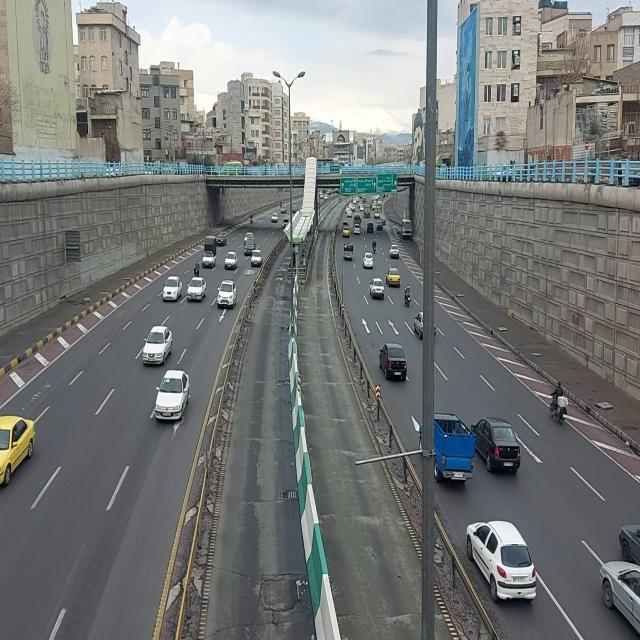Car: (463, 516, 539, 607), (597, 554, 640, 637), (475, 413, 525, 480), (0, 409, 38, 494), (155, 367, 193, 425), (378, 338, 409, 390), (140, 322, 174, 368), (217, 279, 237, 309), (162, 275, 182, 303), (187, 276, 207, 303), (370, 278, 385, 301), (386, 268, 402, 289), (414, 311, 423, 341), (225, 252, 239, 270), (251, 249, 263, 267), (244, 238, 256, 256), (362, 252, 374, 268), (216, 231, 228, 246), (390, 244, 400, 259), (271, 211, 279, 225), (343, 226, 351, 238), (367, 221, 375, 233), (353, 223, 361, 234), (376, 221, 384, 232), (280, 205, 286, 215), (292, 204, 298, 214), (347, 209, 353, 218)
Motorcycle: (548, 373, 570, 433), (404, 284, 412, 309), (194, 259, 200, 278), (372, 238, 376, 254), (250, 212, 254, 225), (279, 199, 282, 209)
Pickup: (434, 409, 476, 488), (202, 235, 218, 268), (343, 243, 354, 260), (375, 206, 381, 220)
Truck: (363, 202, 371, 218)
